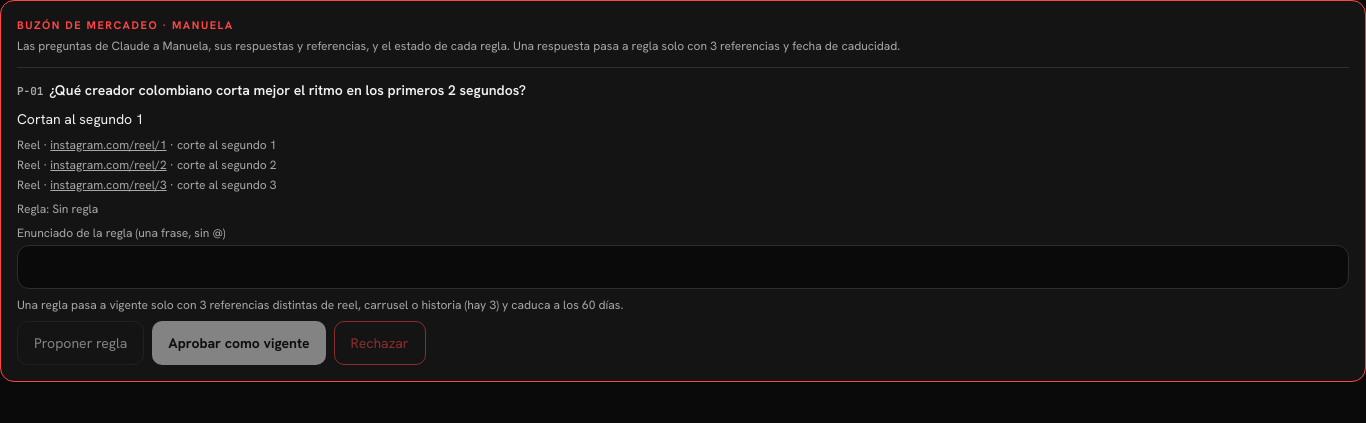
Test: el coach mueve la regla › si la base rechaza el cambio, lo dice
Type "Cortar al segundo 1" into the field labelled "Enunciado de la regla (una frase, sin @)".
click(683, 266); type("Cortar al segundo 1")  # box [17,244,1349,288]
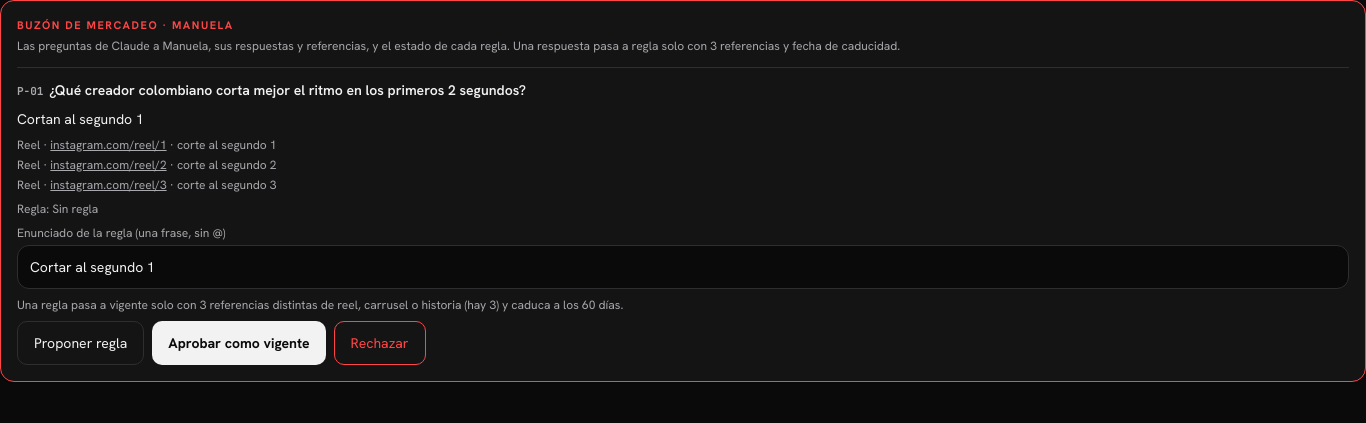
Click the button "Aprobar como vigente".
click(239, 342)  # box [152,320,326,364]
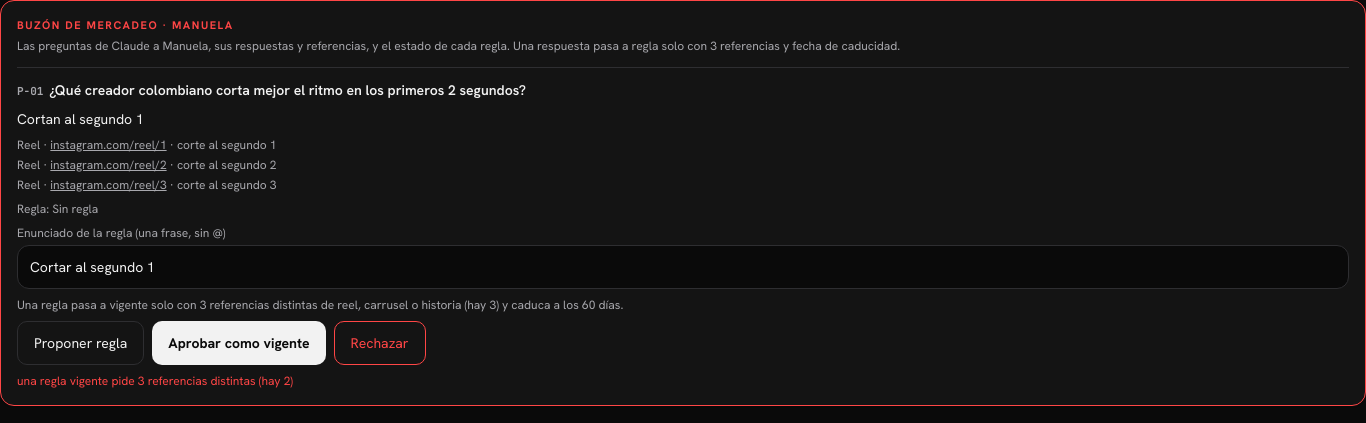
expect the text "una regla vigente pide 3 referencias distintas (hay 2)" is shown: met, box [17,372,293,388]
